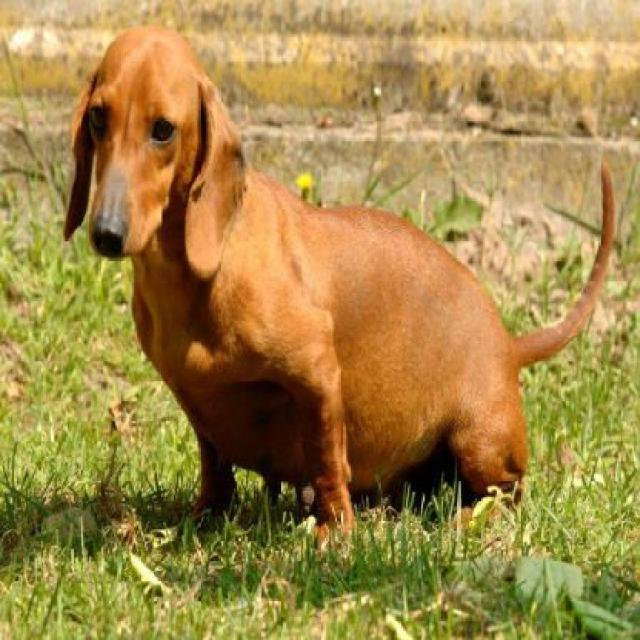Dog: (60, 24, 618, 550)
